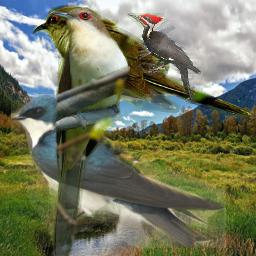Cuckoo: (32, 4, 254, 119), (47, 6, 132, 256)
Swallow: (11, 94, 226, 248)
Woodpecker: (127, 13, 201, 104)
